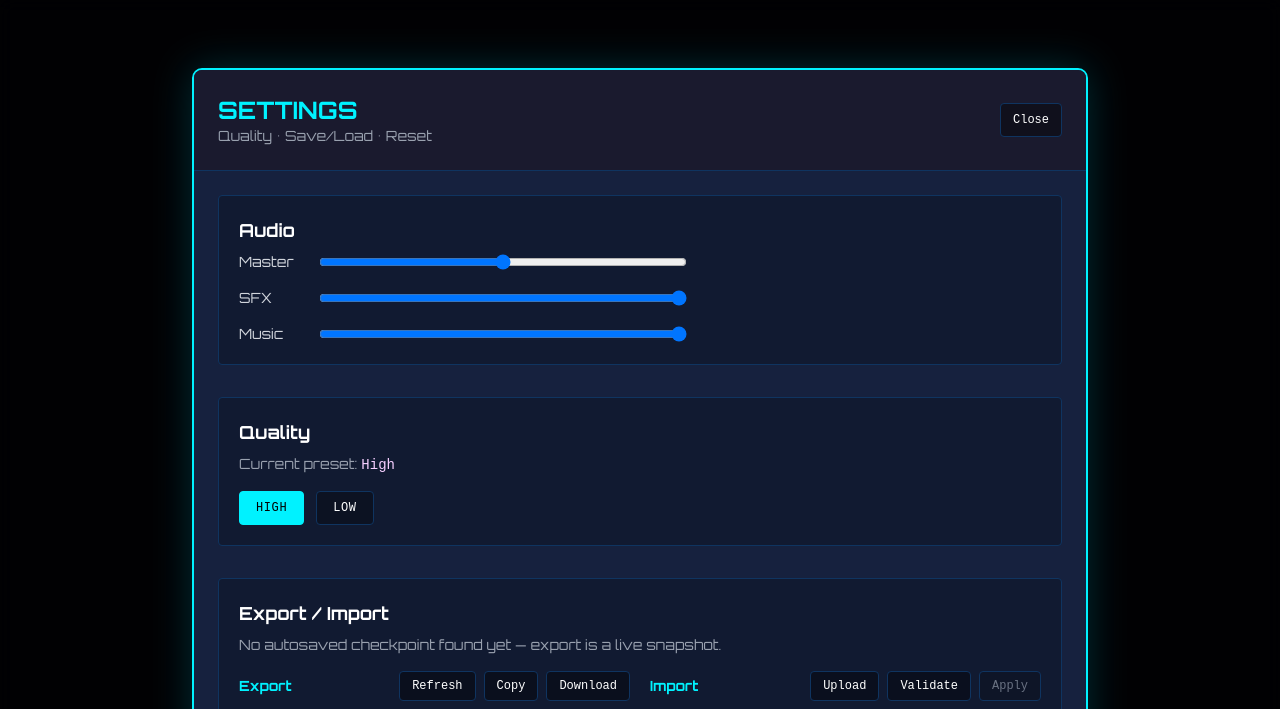
Test: SettingsModal extras › copies export JSON to clipboard (success)
Click the button "Copy": (511, 686) [484,670,538,700]
(page scrolled)
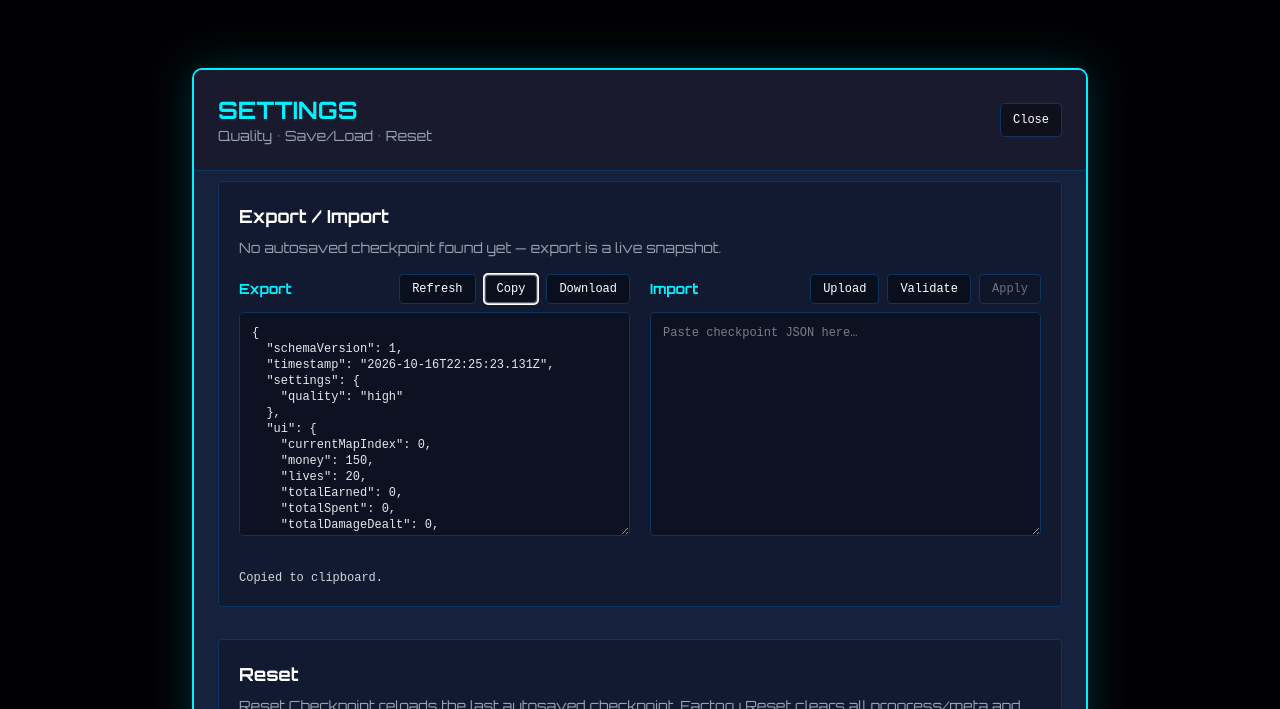
Now the text "Copied to clipboard." is shown, box [239,570,383,584]
